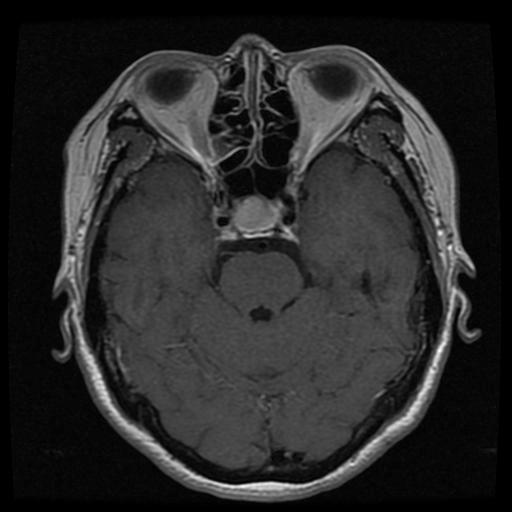Tumour-Pituitary: (216, 191, 303, 244)
